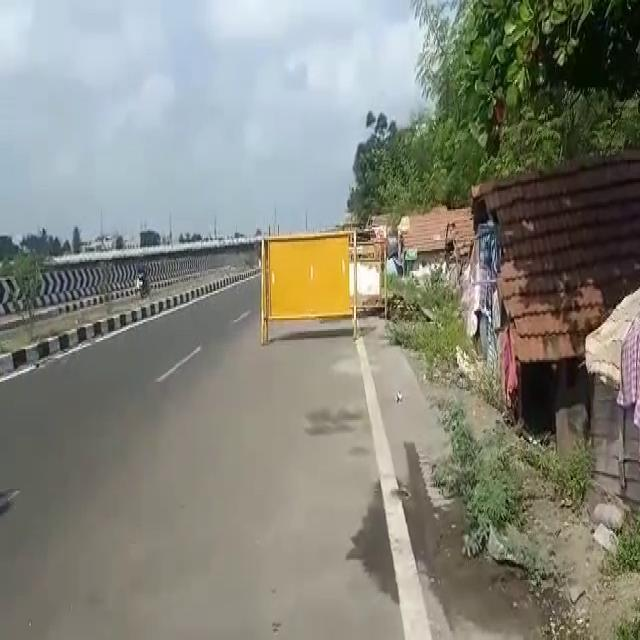fallen_object: (247, 215, 385, 355)
